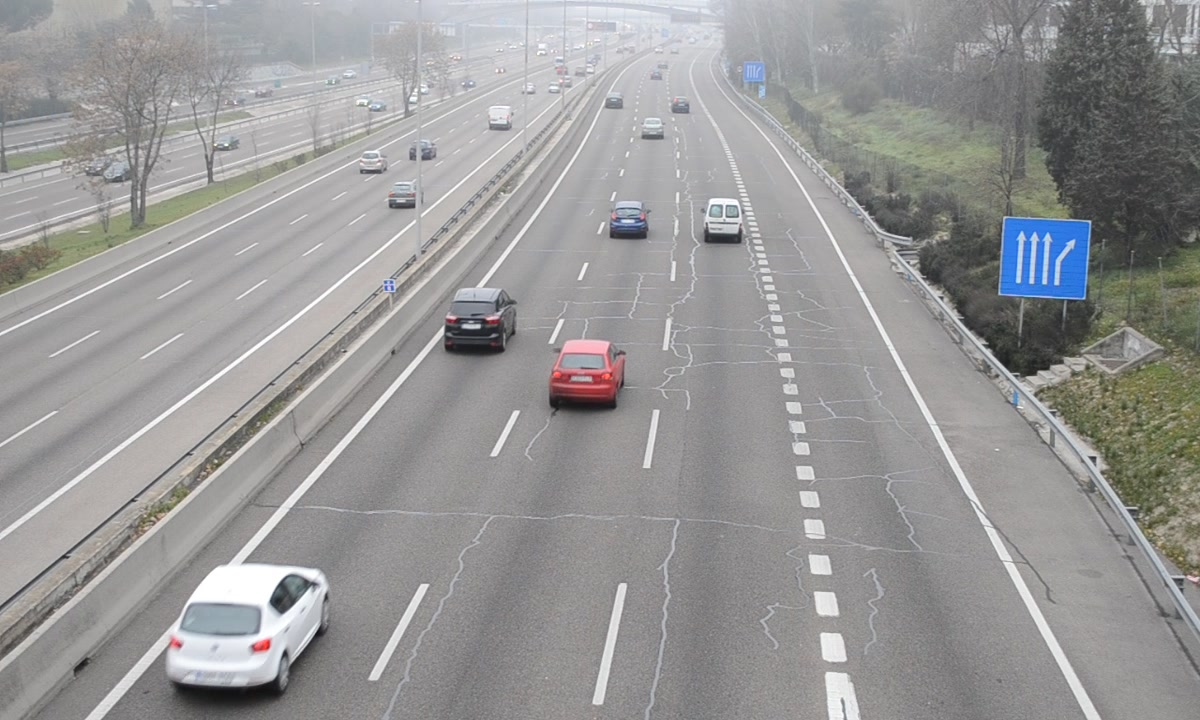car: (165, 565, 329, 690), (550, 340, 623, 404), (443, 288, 514, 352), (608, 202, 650, 241), (641, 117, 666, 141)
van: (704, 199, 744, 243)
